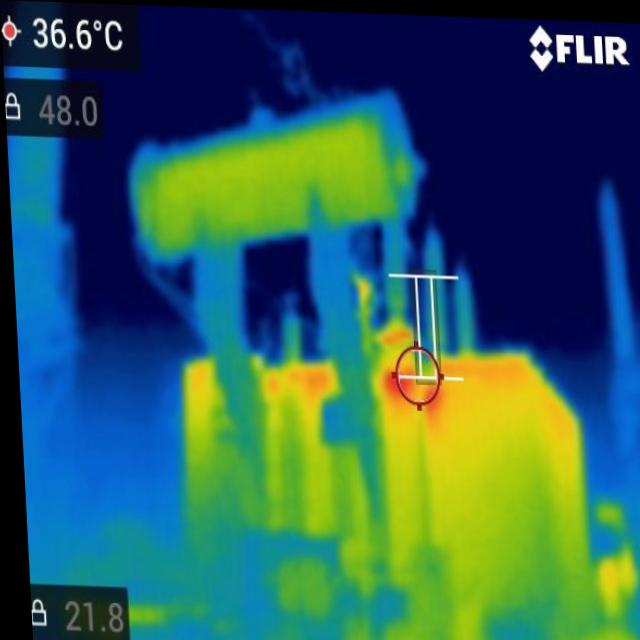Faulty: (355, 354, 454, 429)
Potentially Faulty: (236, 348, 344, 410)
